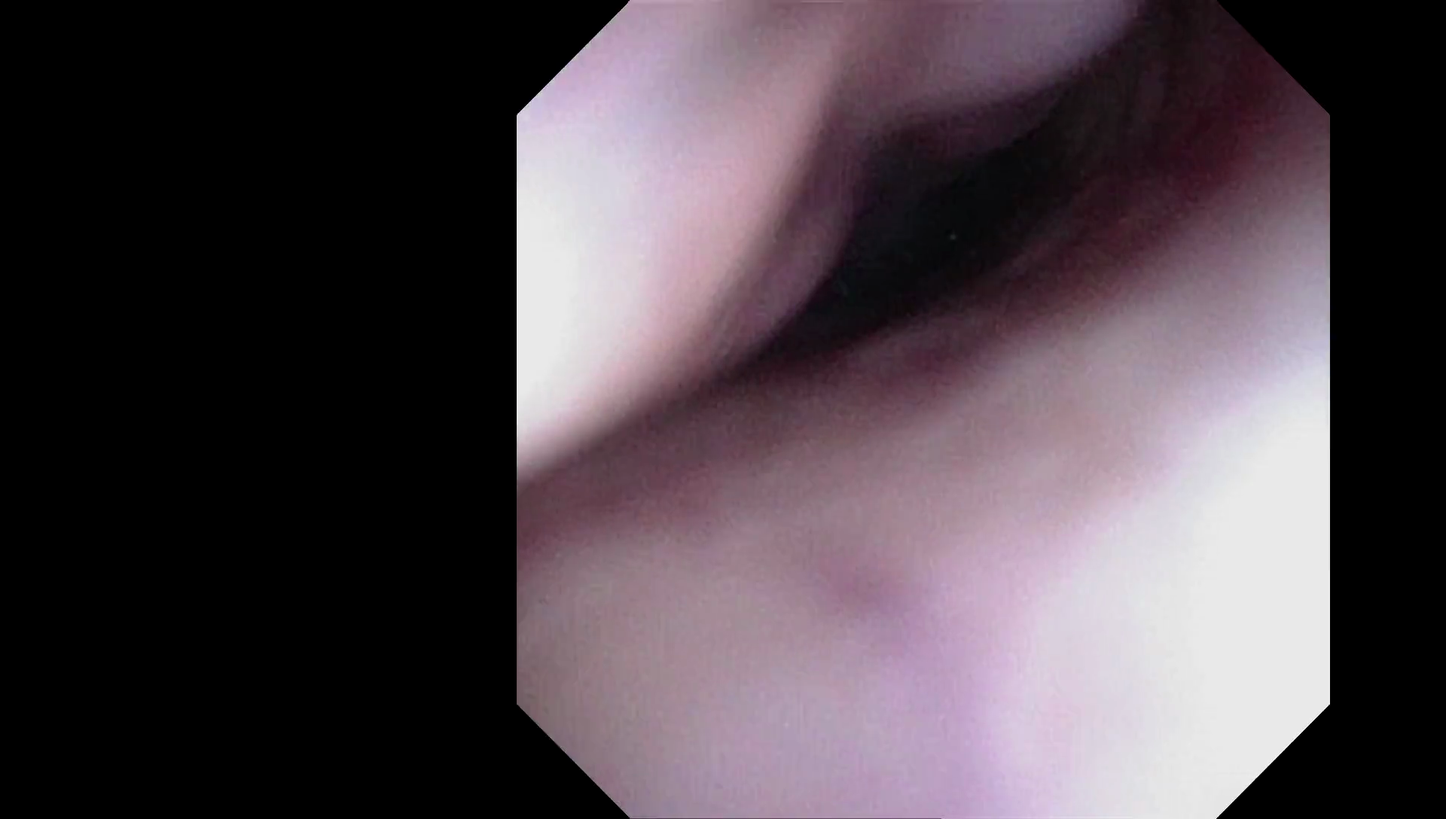close_wall: (907, 403, 1278, 751), (524, 86, 733, 444)
next: (752, 53, 1153, 380)
